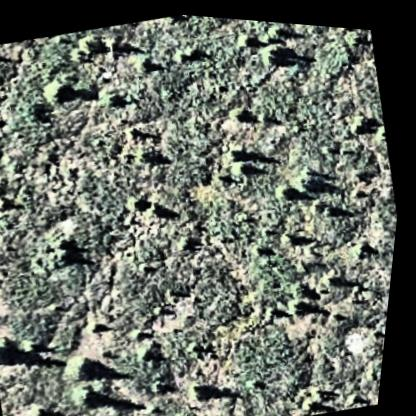tree-top: (68, 352, 105, 387), (43, 75, 79, 107), (25, 333, 59, 363), (0, 332, 29, 365), (59, 236, 87, 270), (258, 35, 288, 66), (81, 382, 110, 409), (275, 174, 302, 202), (194, 373, 221, 400), (298, 164, 325, 190), (291, 288, 318, 313), (233, 154, 257, 178), (130, 191, 154, 214), (229, 101, 252, 123), (225, 140, 249, 160), (137, 51, 157, 71)
